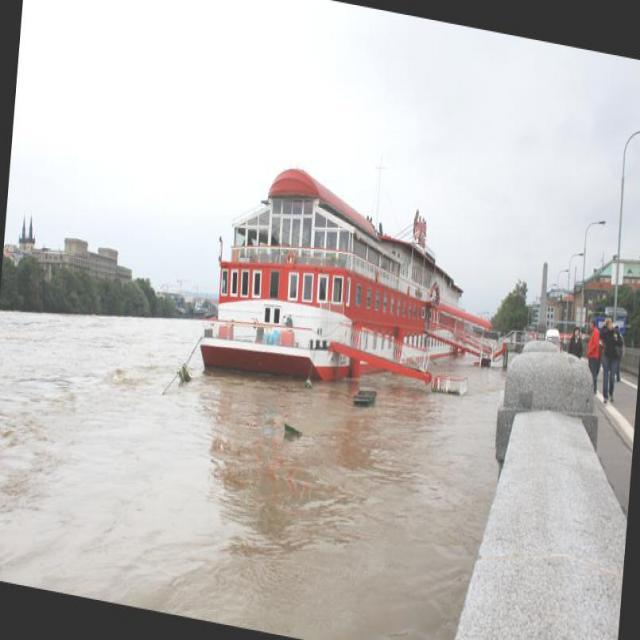flood: (0, 272, 501, 639)
